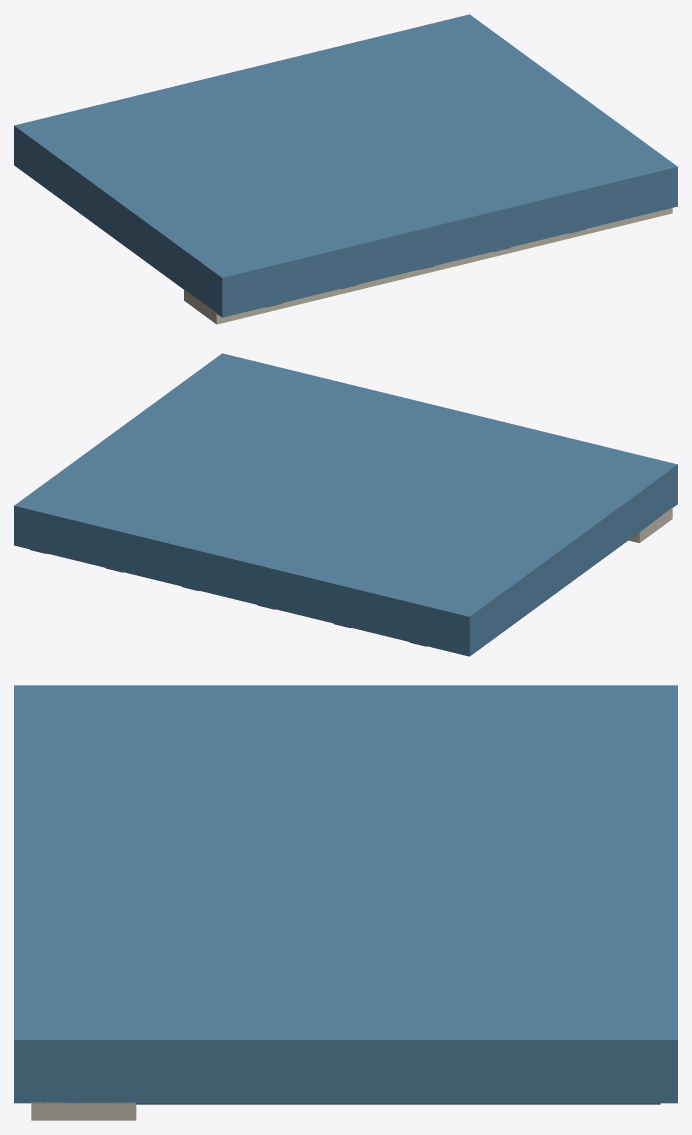
The model's file is blanket.glb.
The picture shows the model from 3 angles, top to bottom: view 1: azimuth 30°, elevation 25°; view 2: azimuth 150°, elevation 25°; view 3: azimuth 270°, elevation 25°; orthographic projection. The views are drawn at different scales.
Parts seen in each view (by area): view 1: 00_blanket, 07_edge_band; view 2: 00_blanket, 07_edge_band; view 3: 00_blanket, 07_edge_band, 06_woven_stripe.
Part boxes in pixels (bbox=[...]): 00_blanket: bbox=[14, 14, 677, 317]; 07_edge_band: bbox=[184, 208, 672, 324]; 00_blanket: bbox=[14, 353, 677, 656]; 07_edge_band: bbox=[628, 507, 672, 542]; 00_blanket: bbox=[14, 685, 677, 1103]; 07_edge_band: bbox=[31, 1101, 136, 1120]; 06_woven_stripe: bbox=[136, 1103, 660, 1104].
Size of the model in its own units: 0.48 by 0.051 by 0.38.
